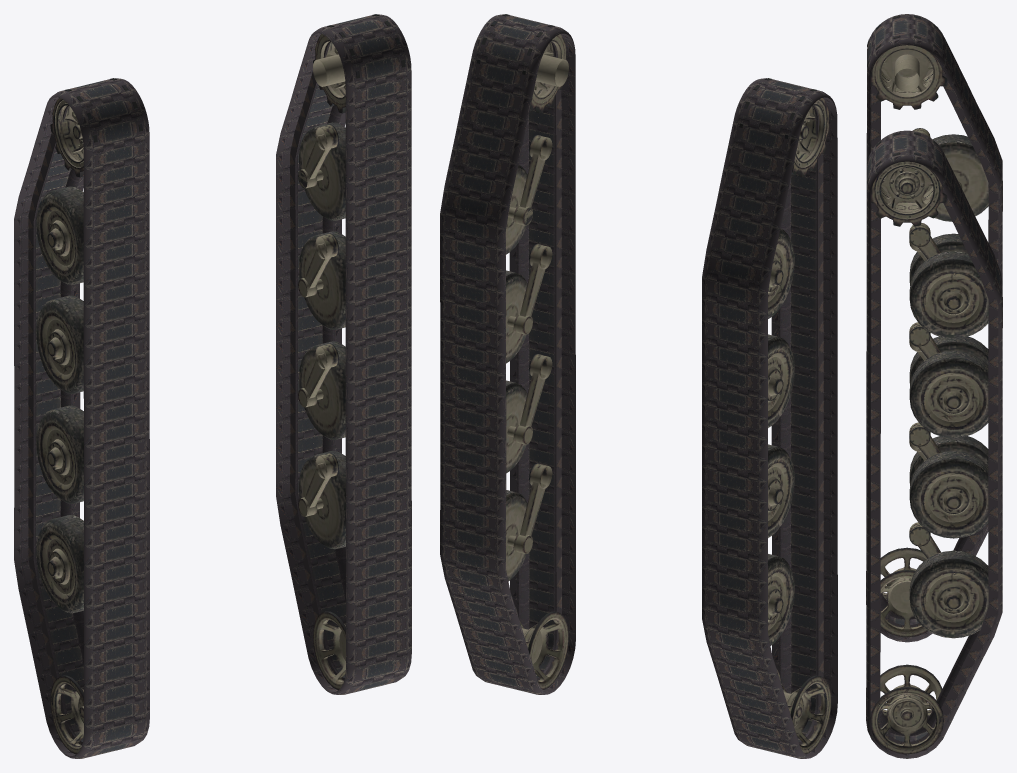
File: Chassis.glb
3 views of the same model, side by side, from view 1: azimuth 30°, elevation 25°; view 2: azimuth 150°, elevation 25°; view 3: azimuth 270°, elevation 25° (orthographic). The views are drawn at different scales.
Visible parts, largest first — view 1: set_0_group_0, set_1_group_0, set_2_group_0, set_3_group_0; view 2: set_1_group_0, set_0_group_0, set_3_group_0, set_2_group_0; view 3: set_3_group_0, set_0_group_0, set_2_group_0, set_1_group_0.
Boxes of the visible parts, x1,y1,x2,y2 form: set_0_group_0: (276,14,411,694); set_1_group_0: (14,78,149,758); set_2_group_0: (36,78,142,754); set_3_group_0: (298,14,405,690); set_1_group_0: (702,78,837,758); set_0_group_0: (440,14,575,694); set_3_group_0: (477,14,568,689); set_2_group_0: (739,78,831,754); set_3_group_0: (867,132,988,754); set_0_group_0: (866,130,1002,758); set_2_group_0: (867,15,988,637); set_1_group_0: (866,14,1002,642).
Bounding box in the file's own units: 2.02 × 3.9 × 0.8009.
4 materials, 4 textured.
